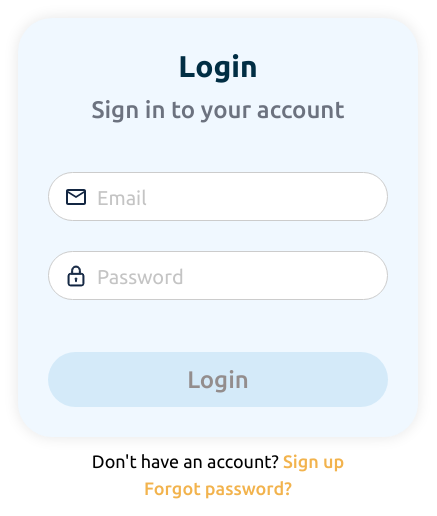
Login Component › enables the button when the form is filled
The image size is (437, 516).
Type "admin@example.com" into the field with placeholder "Email".
click(218, 196); type("admin@example.com")  # box [48, 172, 388, 221]
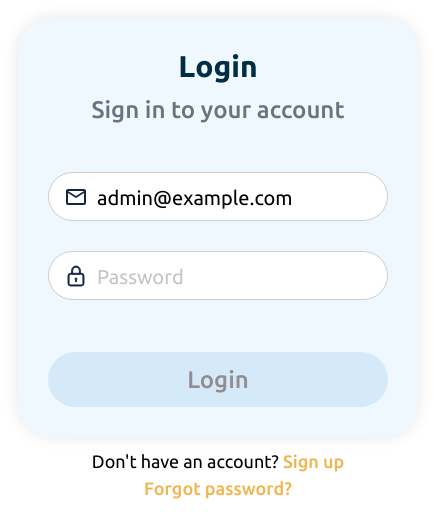
Type "admin" into the password field with placeholder "Password".
click(218, 276); type("admin")  # box [48, 251, 388, 300]
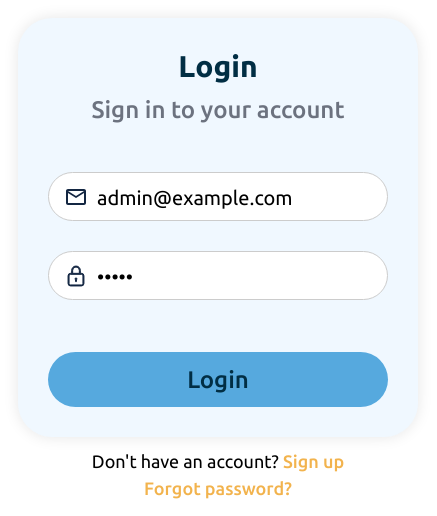
Check: the button "Login" is enabled, box [48, 352, 388, 407]
